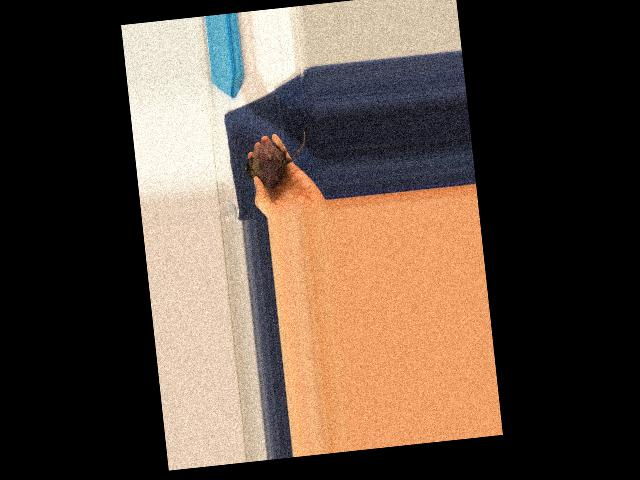beet: (241, 128, 310, 190)
